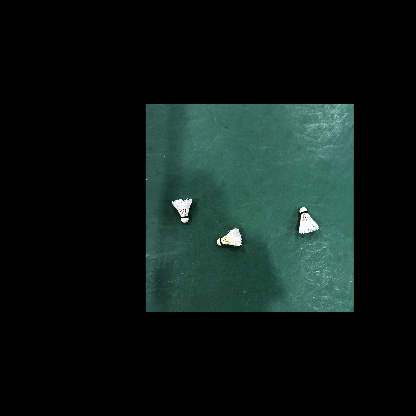ball_single: (299, 207, 319, 234), (172, 198, 192, 223), (217, 228, 242, 246)
